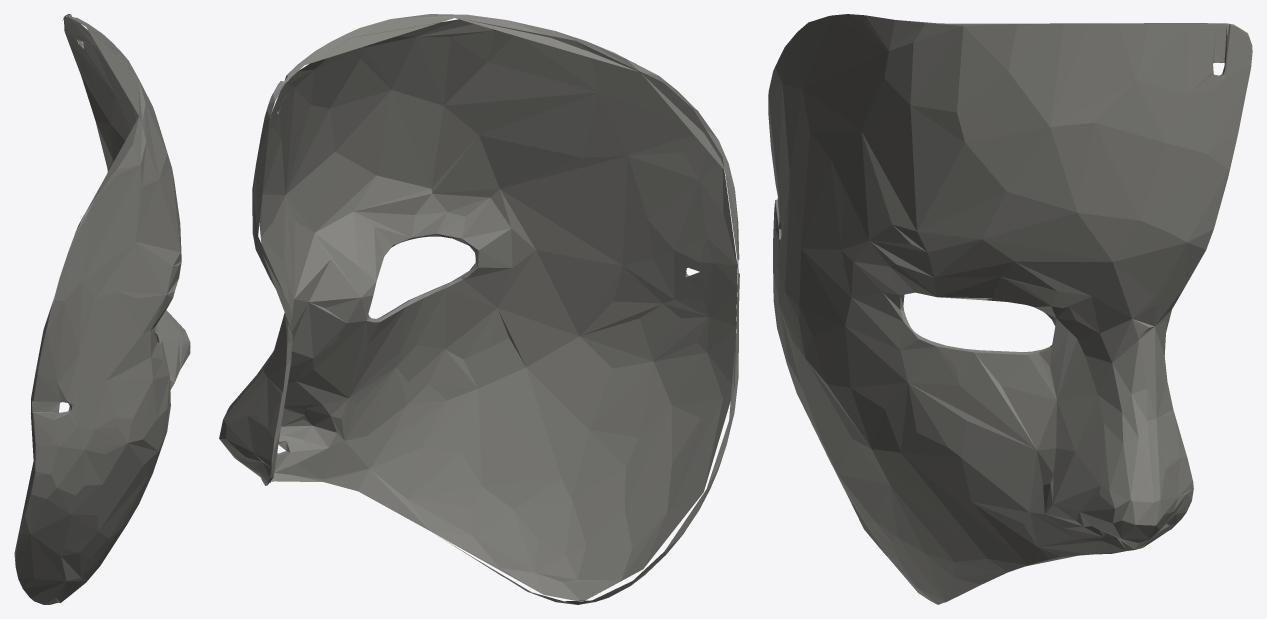
Rendered from misc_toy_phantomMask_a01.glb.
3 renders of one model, left to right at view 1: azimuth 30°, elevation 25°; view 2: azimuth 150°, elevation 25°; view 3: azimuth 270°, elevation 25°, orthographic. The views are drawn at different scales.
Visible parts, largest first — view 1: geometry_0; view 2: geometry_0; view 3: geometry_0.
Part boxes in pixels (x1,y1,x2,y2): geometry_0: (14, 14, 190, 604); geometry_0: (219, 14, 739, 604); geometry_0: (768, 14, 1252, 604).
Bounding box in the file's own units: 0.2659 × 0.42 × 0.2817.
1 material, 1 textured.
